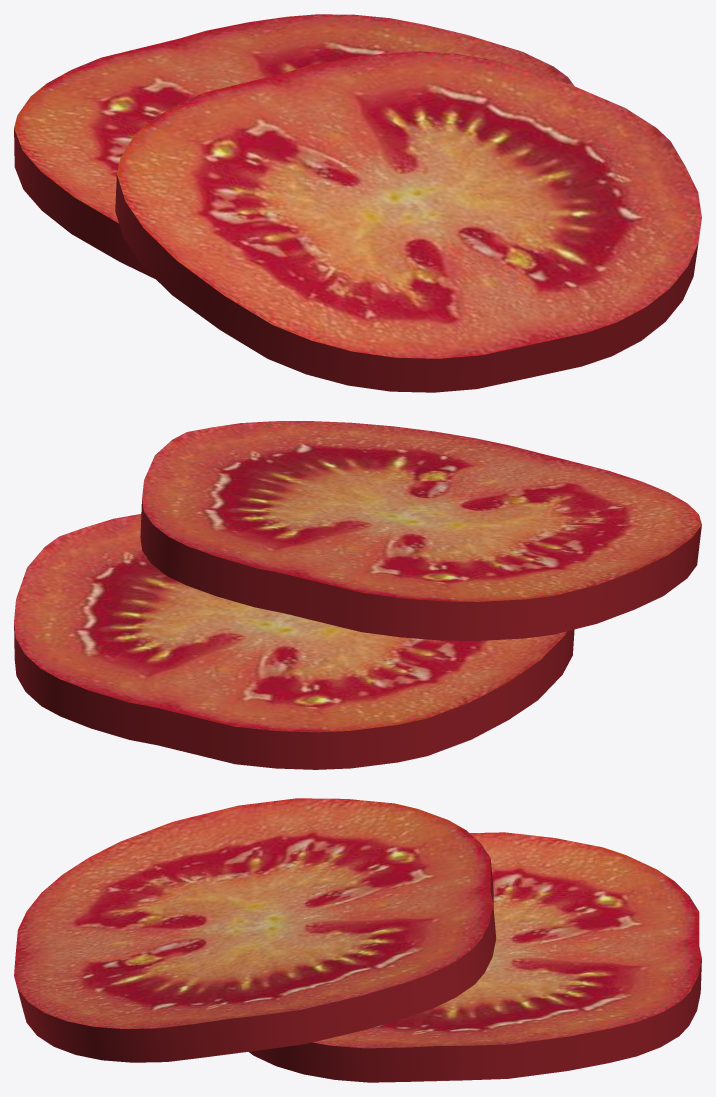
File: tomato_slice.obj
3 renders of one model, top to bottom at view 1: azimuth 30°, elevation 25°; view 2: azimuth 150°, elevation 25°; view 3: azimuth 270°, elevation 25°, orthographic. The views are drawn at different scales.
Visible parts, largest first — view 1: Mesh2 Component_2_2 SlicedTomatoes1 Model, Mesh1 Component_2_1 SlicedTomatoes1 Model; view 2: Mesh2 Component_2_2 SlicedTomatoes1 Model, Mesh1 Component_2_1 SlicedTomatoes1 Model; view 3: Mesh2 Component_2_2 SlicedTomatoes1 Model, Mesh1 Component_2_1 SlicedTomatoes1 Model.
Boxes of the visible parts, x1,y1,x2,y2 form: Mesh2 Component_2_2 SlicedTomatoes1 Model: [115, 51, 701, 392]; Mesh1 Component_2_1 SlicedTomatoes1 Model: [14, 14, 573, 278]; Mesh2 Component_2_2 SlicedTomatoes1 Model: [140, 421, 701, 640]; Mesh1 Component_2_1 SlicedTomatoes1 Model: [14, 514, 574, 769]; Mesh2 Component_2_2 SlicedTomatoes1 Model: [14, 798, 496, 1062]; Mesh1 Component_2_1 SlicedTomatoes1 Model: [249, 832, 701, 1082].
Bounding box in the file's own units: 4.68 × 0.9914 × 6.17.
2 materials, 1 textured.
